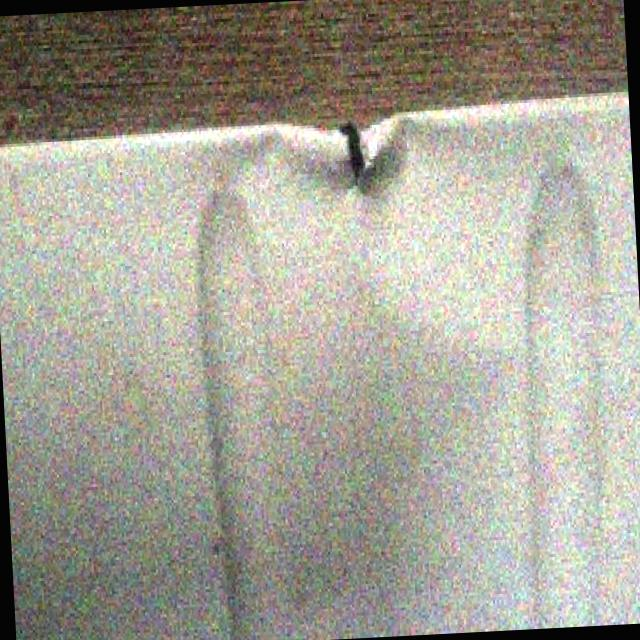crack: (326, 124, 379, 195)
